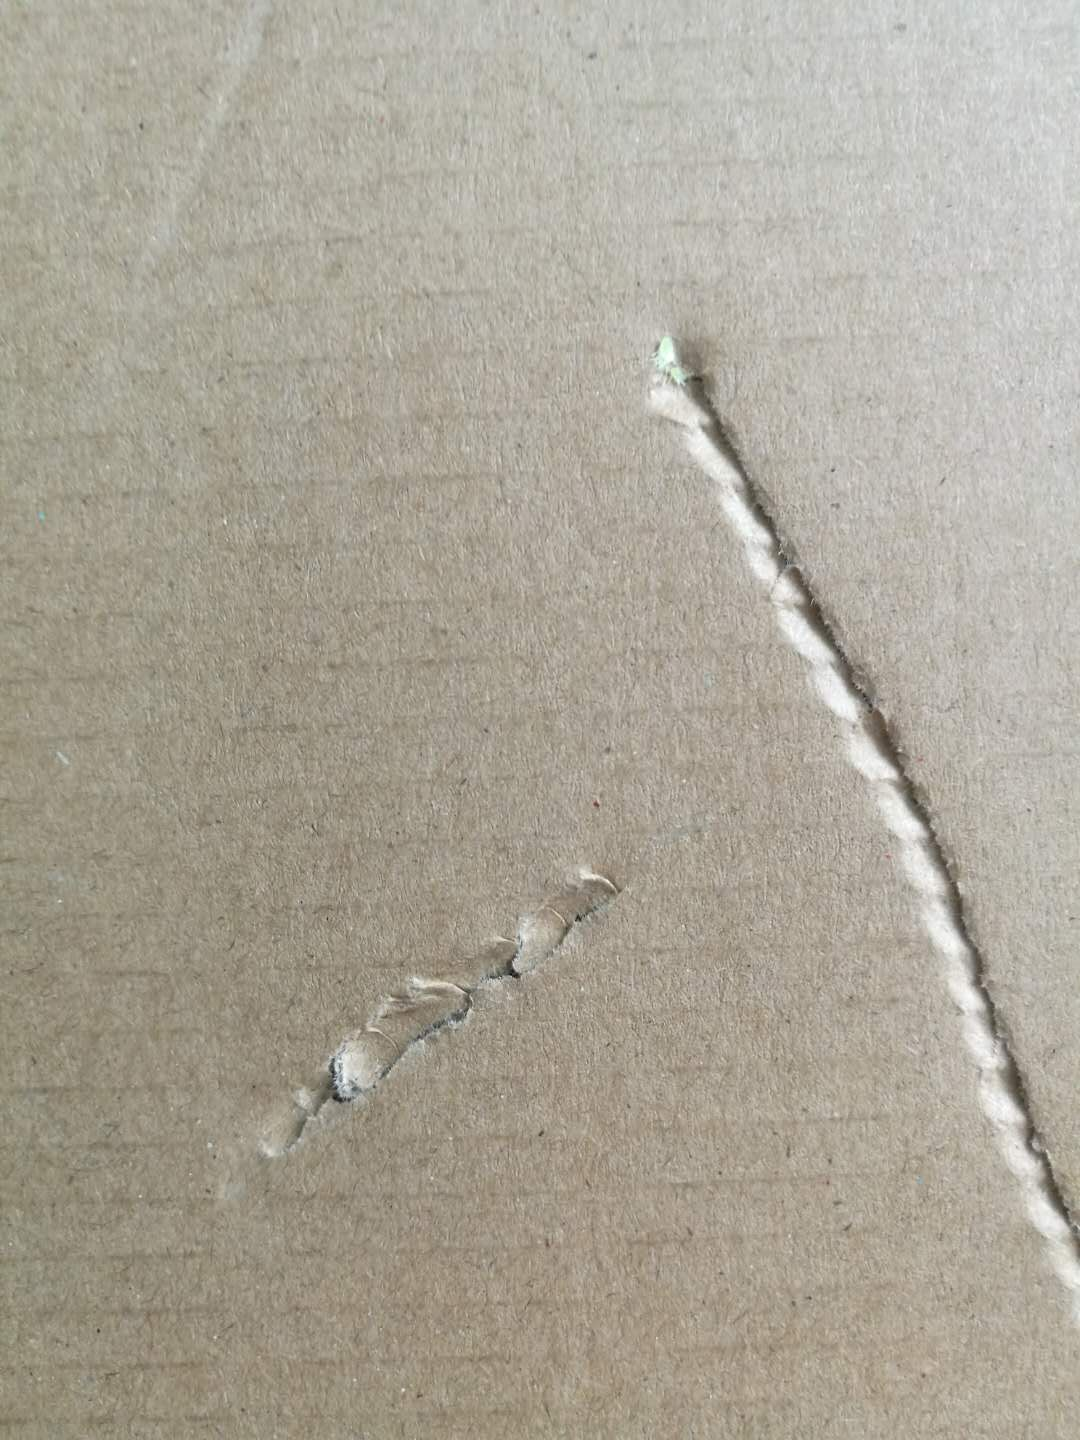defect: (594, 295, 1080, 1318), (195, 828, 657, 1219), (120, 1, 317, 302)
